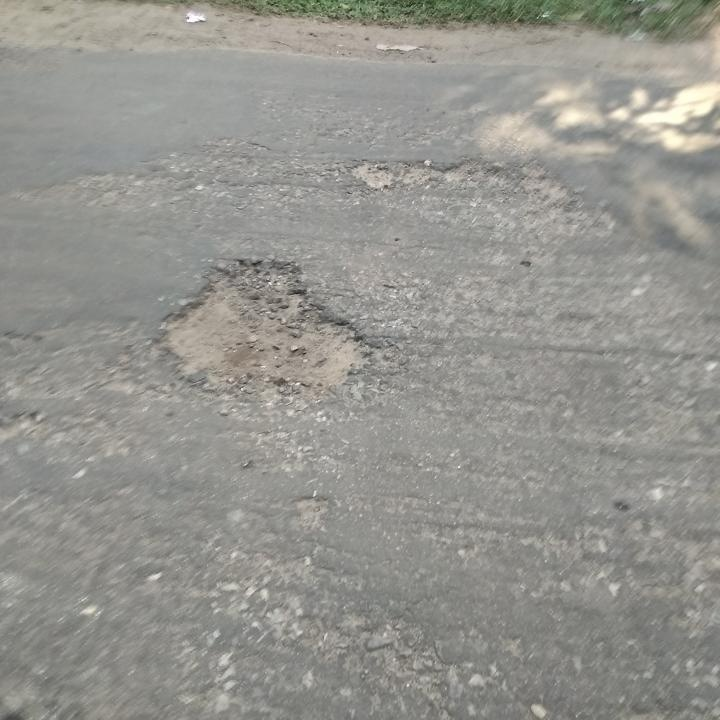pothole: (156, 254, 390, 404), (341, 155, 515, 191)
